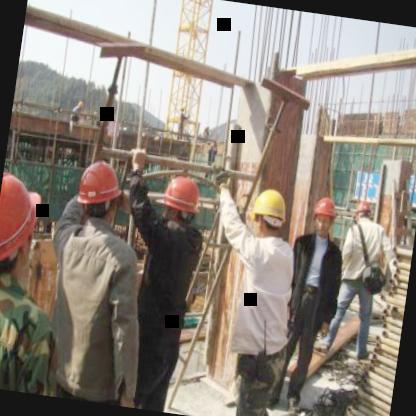helmet: (0, 164, 48, 296), (70, 153, 127, 231), (156, 169, 206, 231), (245, 182, 292, 245), (308, 192, 338, 238), (350, 192, 376, 231)
